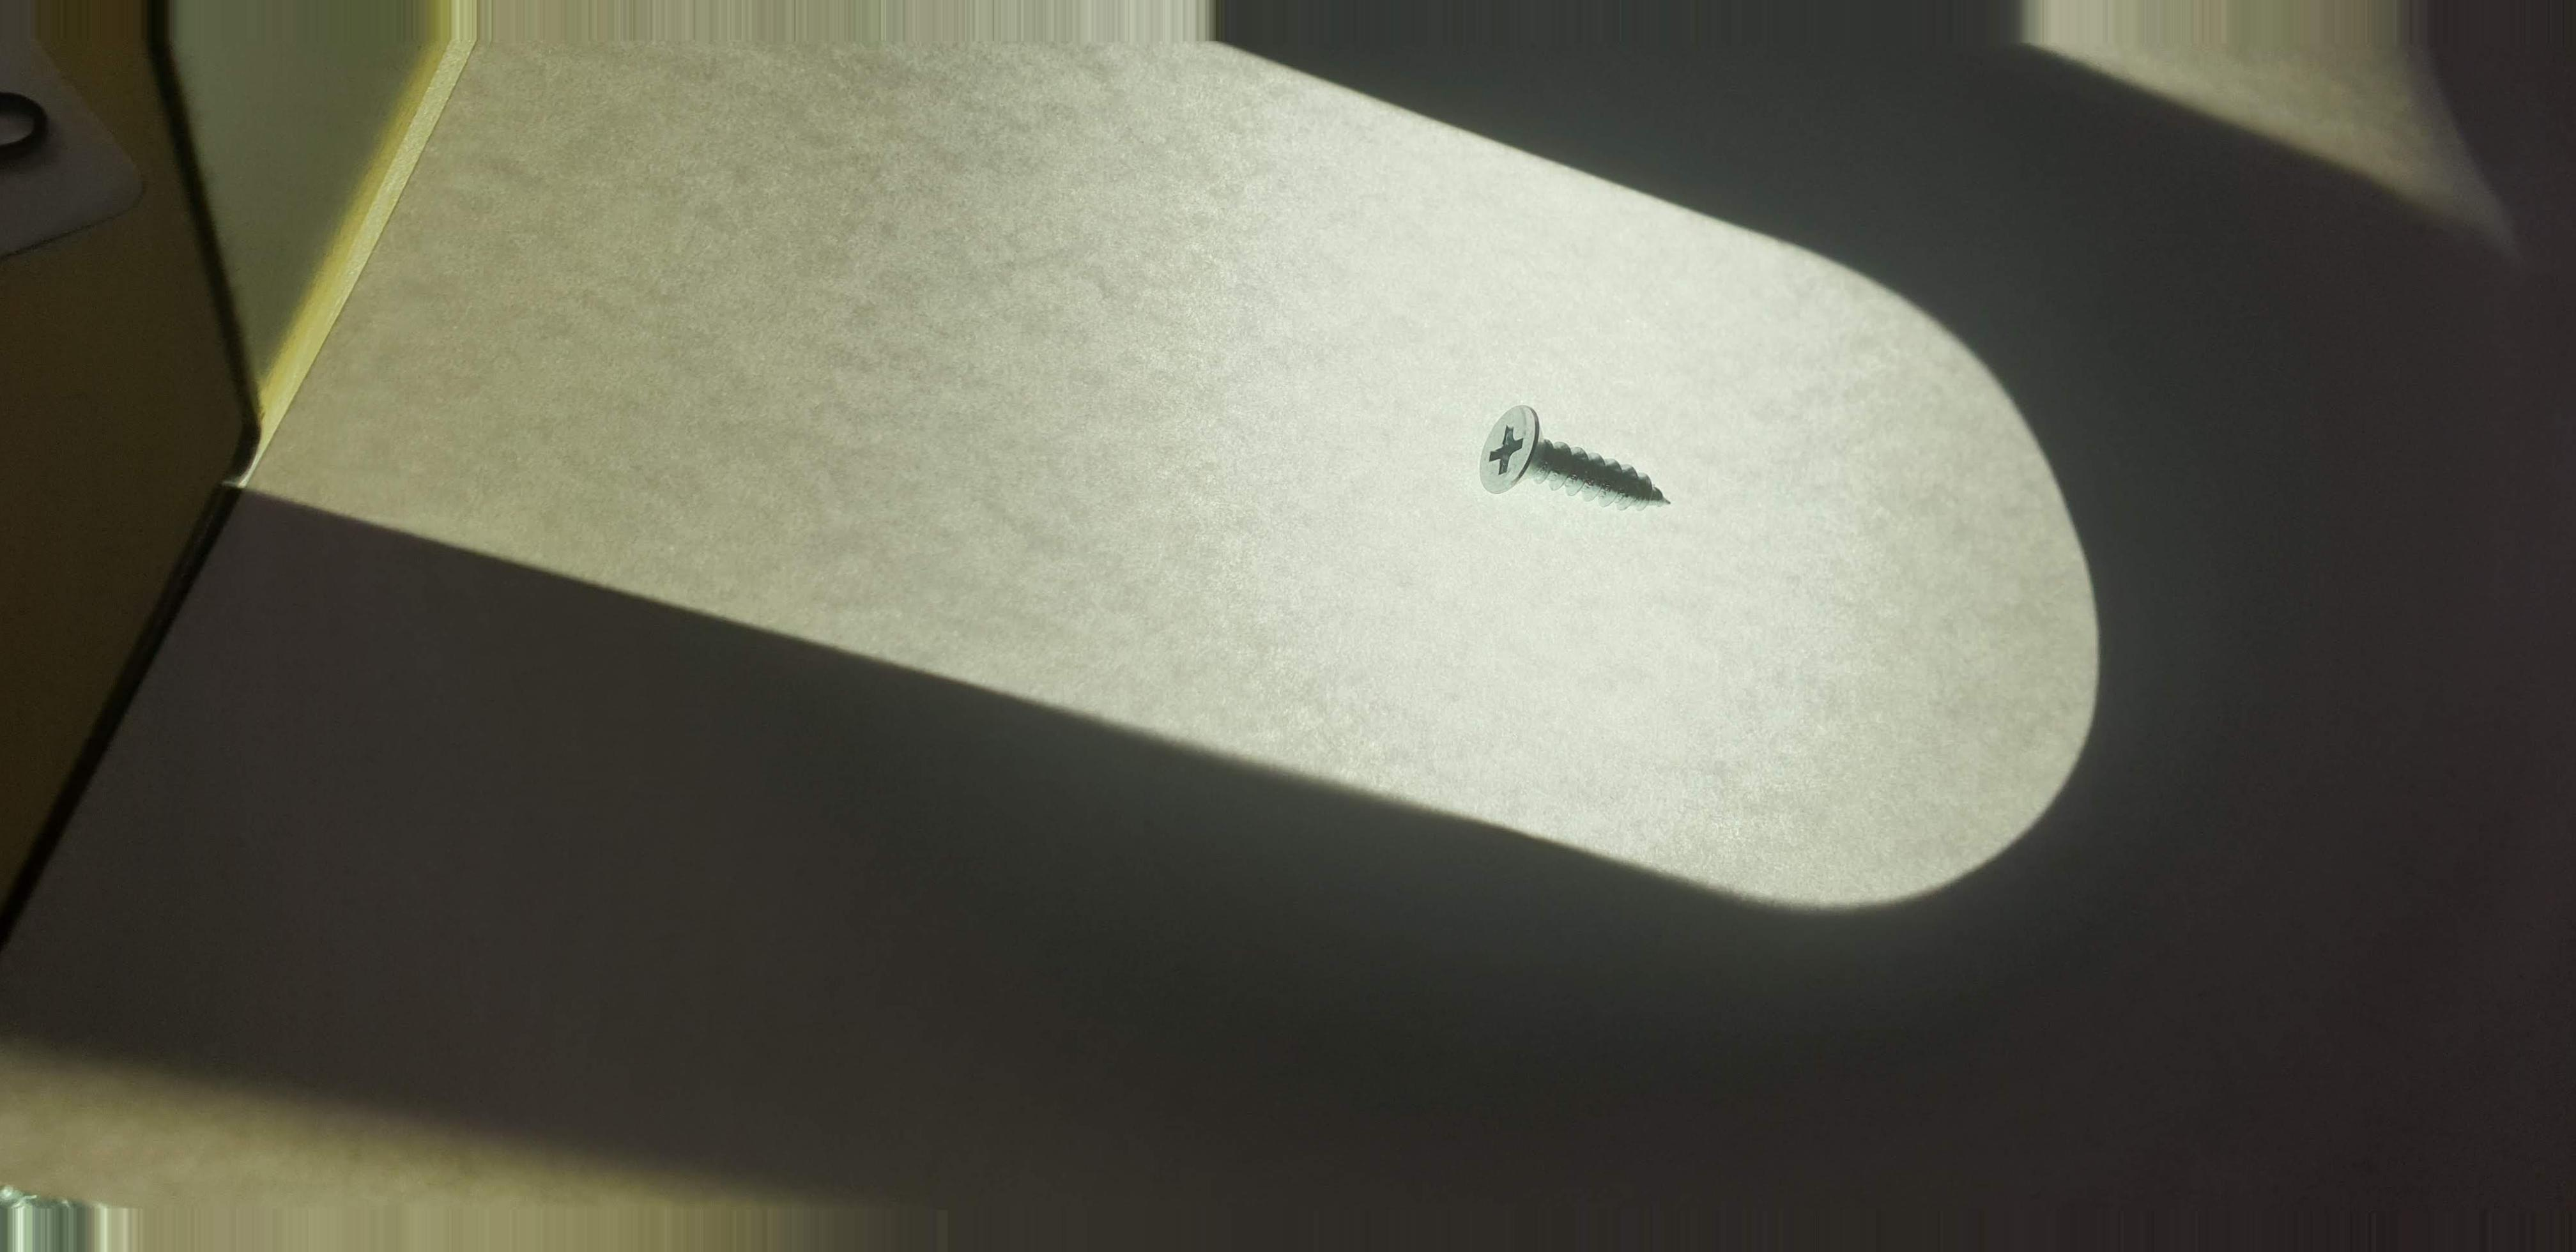S003: (1454, 384, 1700, 531)
